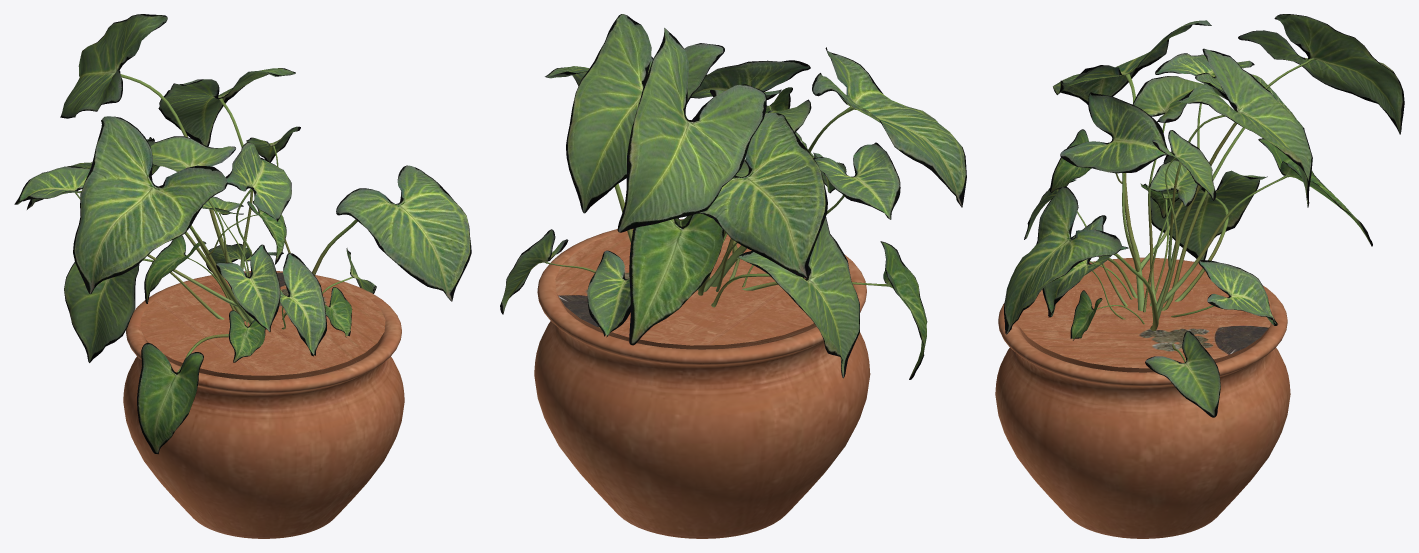
The model's file is potted_plant_02_1k.gltf.
3 renders of one model, left to right at view 1: azimuth 30°, elevation 25°; view 2: azimuth 150°, elevation 25°; view 3: azimuth 270°, elevation 25°, orthographic. The views are drawn at different scales.
Visible parts, largest first — view 1: potted_plant_02_leaves, potted_plant_02_pot, potted_plant_02_dirt; view 2: potted_plant_02_leaves, potted_plant_02_pot, potted_plant_02_dirt; view 3: potted_plant_02_leaves, potted_plant_02_pot, potted_plant_02_dirt.
Boxes of the visible parts, <box> form: potted_plant_02_leaves: <box>14,14,471,454</box>; potted_plant_02_pot: <box>123,271,404,538</box>; potted_plant_02_dirt: <box>140,272,385,380</box>; potted_plant_02_leaves: <box>500,14,966,379</box>; potted_plant_02_pot: <box>534,219,870,538</box>; potted_plant_02_dirt: <box>555,229,816,349</box>; potted_plant_02_leaves: <box>1004,14,1404,417</box>; potted_plant_02_pot: <box>995,257,1290,538</box>; potted_plant_02_dirt: <box>1017,259,1273,372</box>.
Size of the model in its own units: 0.7012 by 0.8412 by 0.6574.
2 materials, 2 textured.
